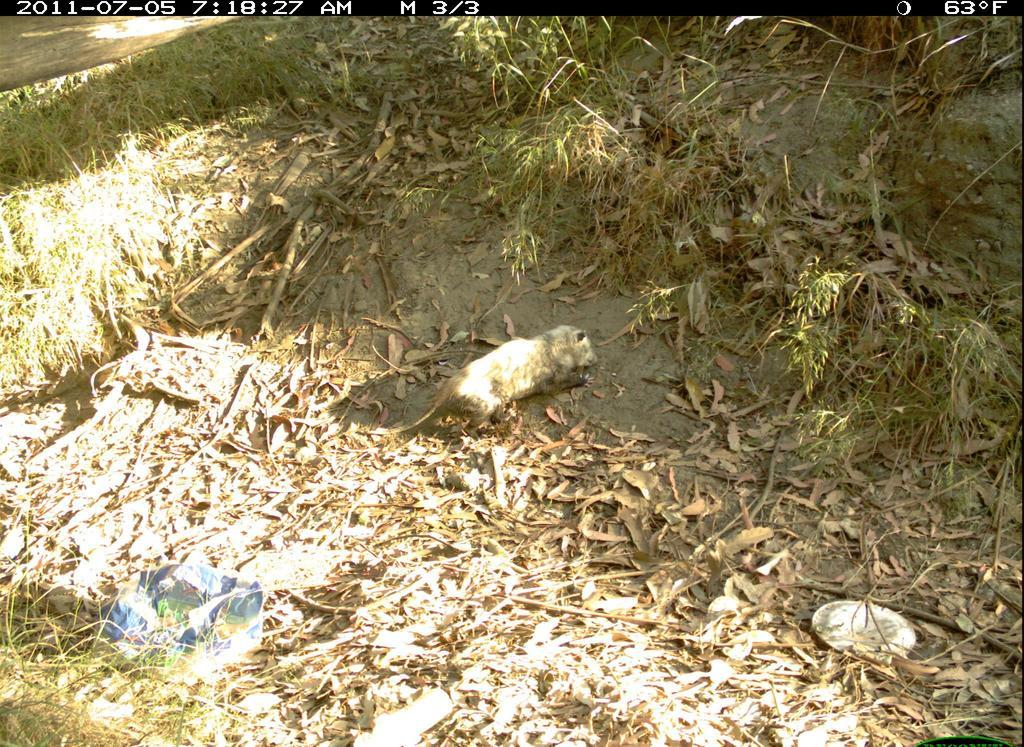opossum: (377, 315, 609, 441)
